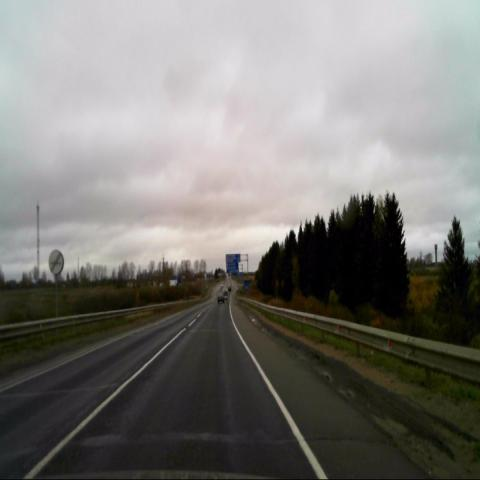3_21: (48, 249, 64, 274)
